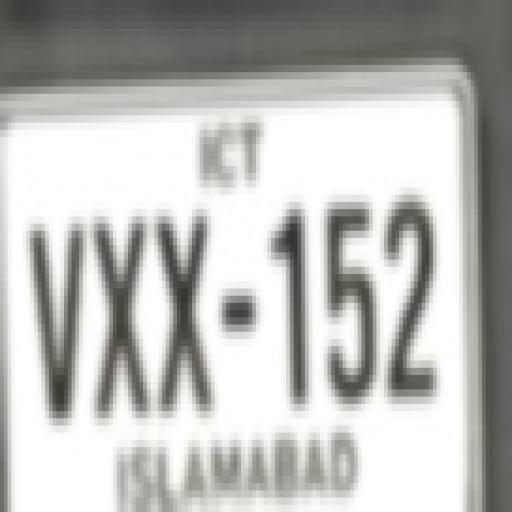1: (269, 206, 312, 410)
2: (383, 195, 441, 398)
5: (321, 192, 374, 404)
V: (28, 214, 88, 415)
X: (150, 218, 218, 408), (91, 214, 147, 401)
